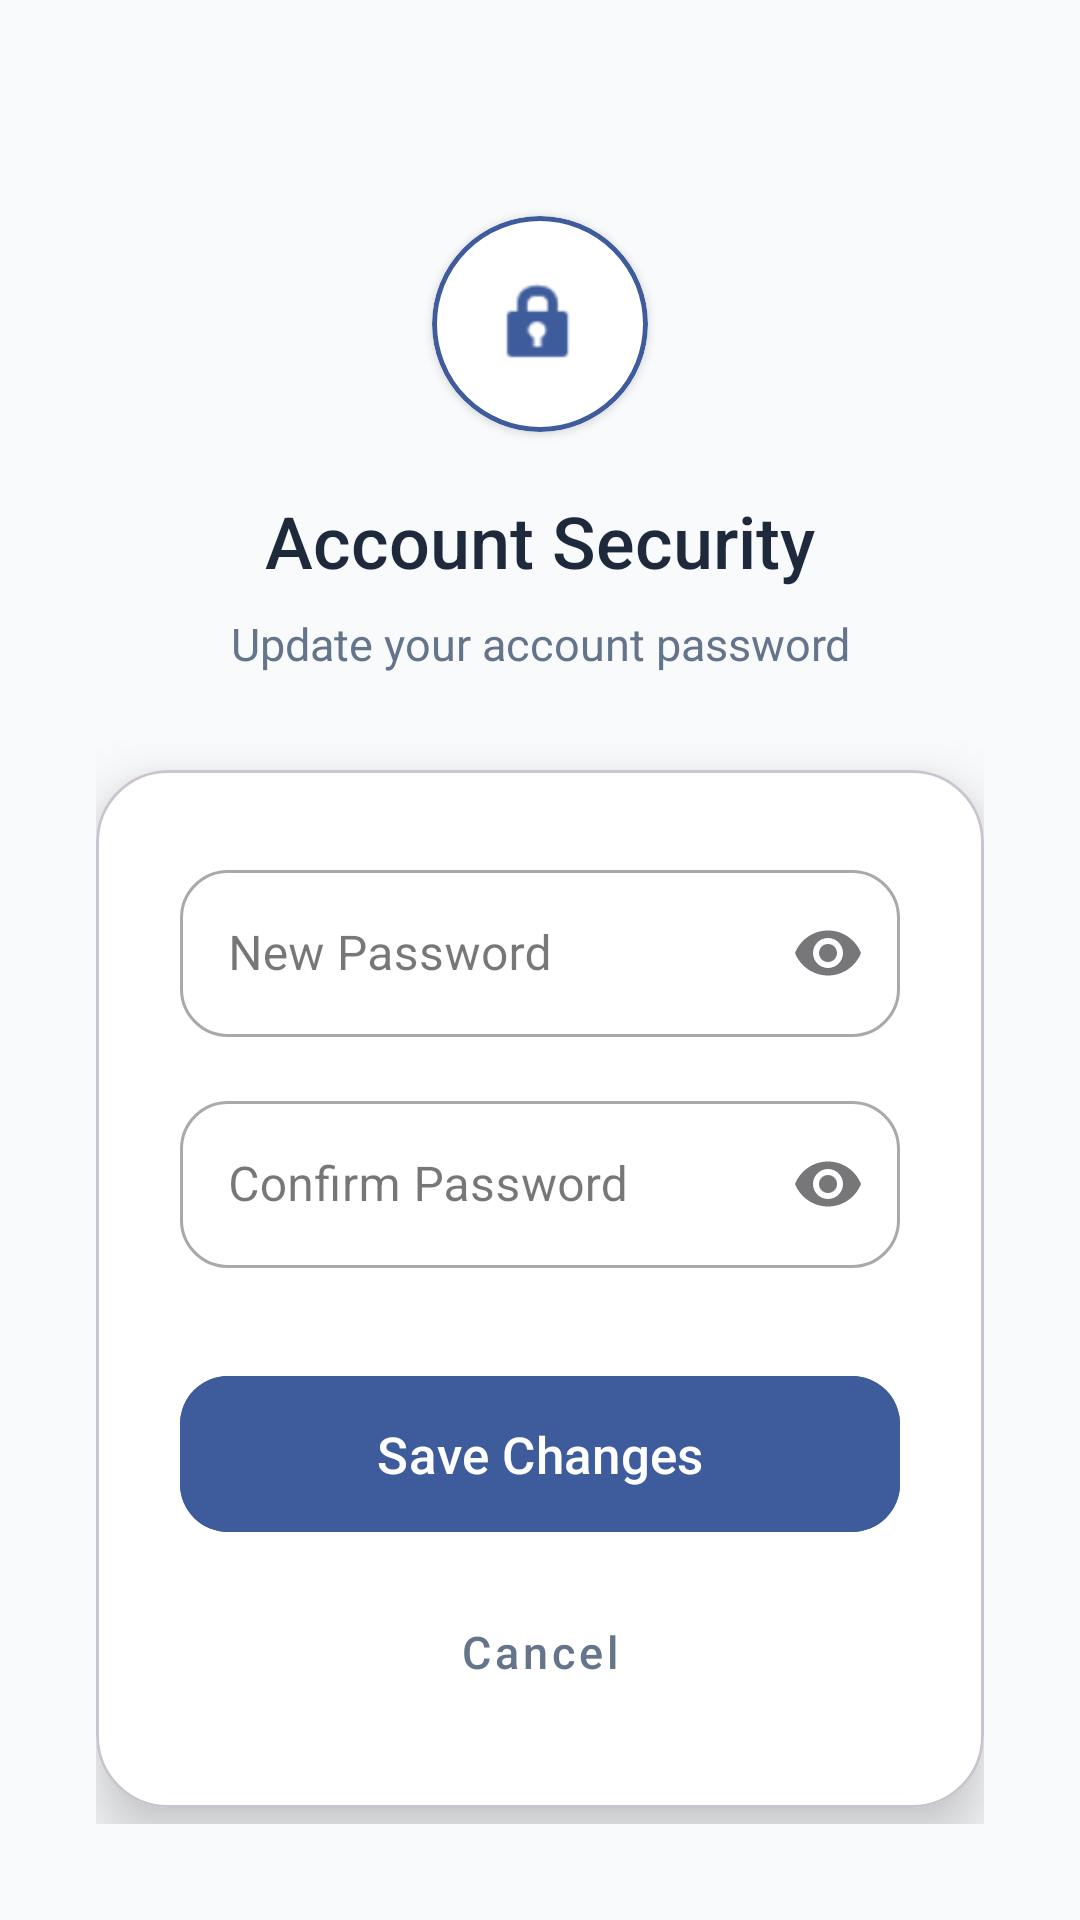

Point at icon controls on the screen. Image size 1080x1920, points as (x=x, y=y).
lock idle: (x=537, y=321)
